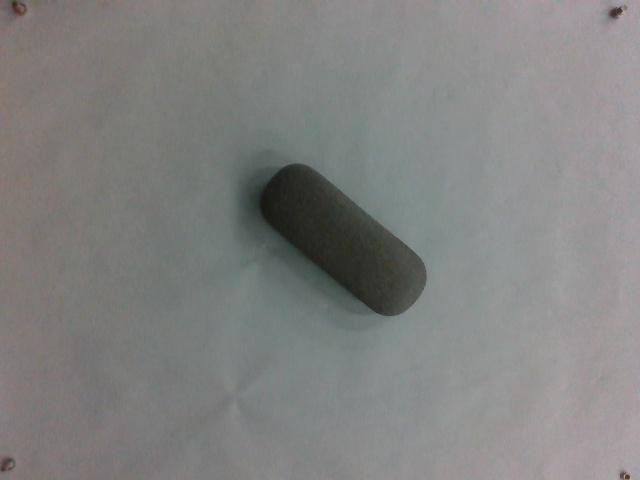glassescase: (255, 157, 427, 321)
